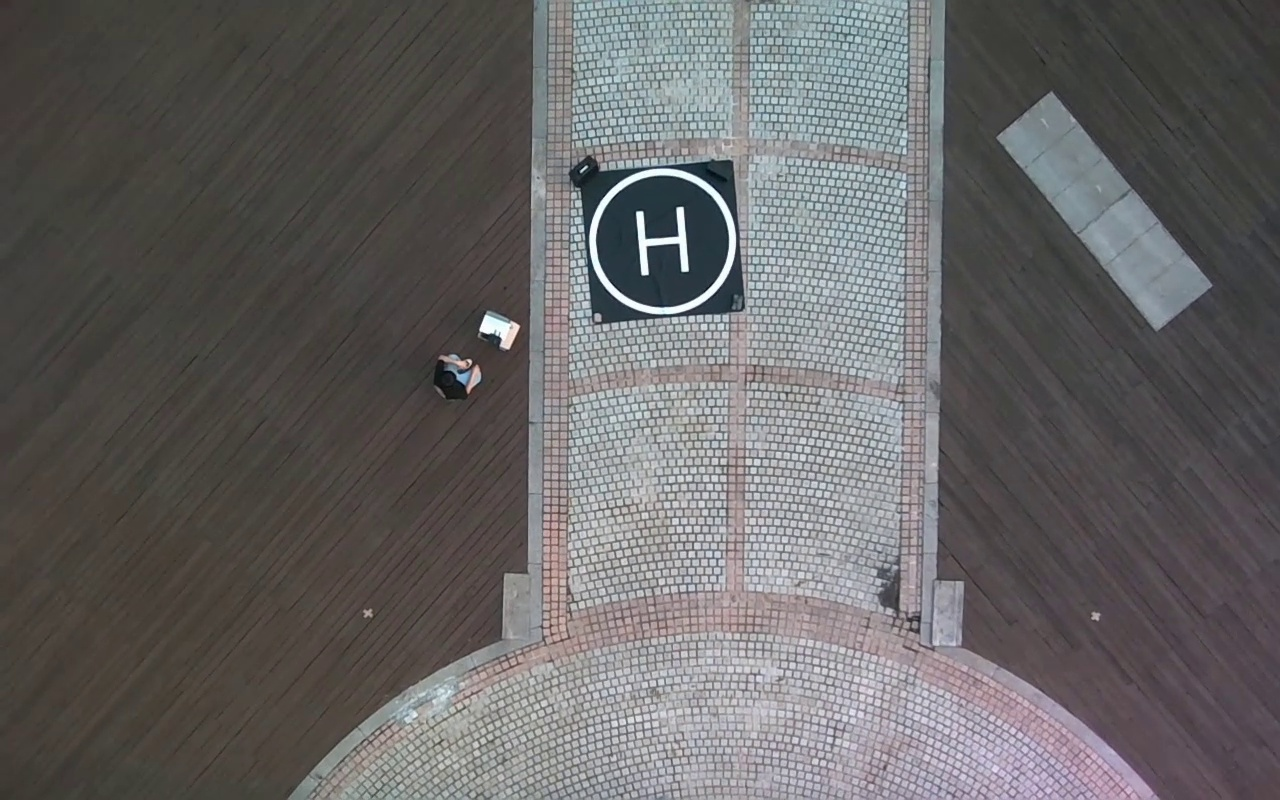H: (632, 205, 691, 275)
heliport: (591, 166, 735, 314)
